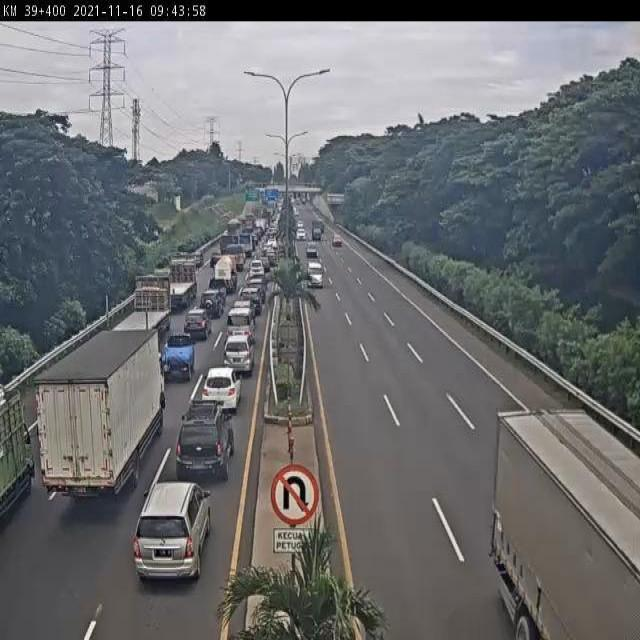car: (131, 479, 212, 592), (175, 399, 238, 484), (200, 364, 240, 417), (159, 333, 194, 383), (222, 335, 255, 380), (225, 308, 254, 348), (181, 309, 209, 343), (202, 289, 225, 320)
truck-l-: (103, 272, 172, 351), (157, 256, 199, 315)
truck-m-: (36, 329, 168, 503)
